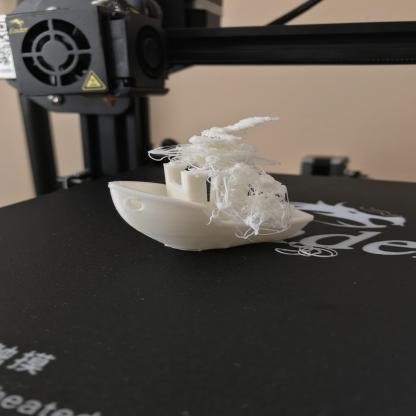fail: (157, 113, 302, 237)
